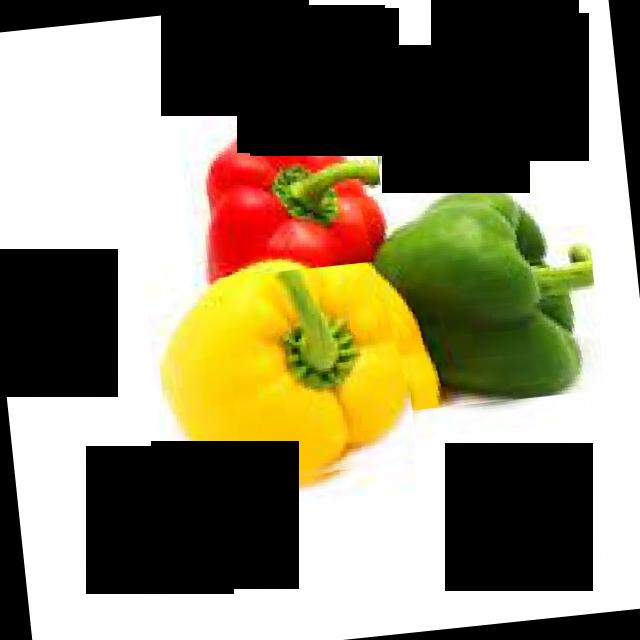pepper: (149, 240, 419, 498), (358, 174, 604, 413), (194, 109, 388, 279)
